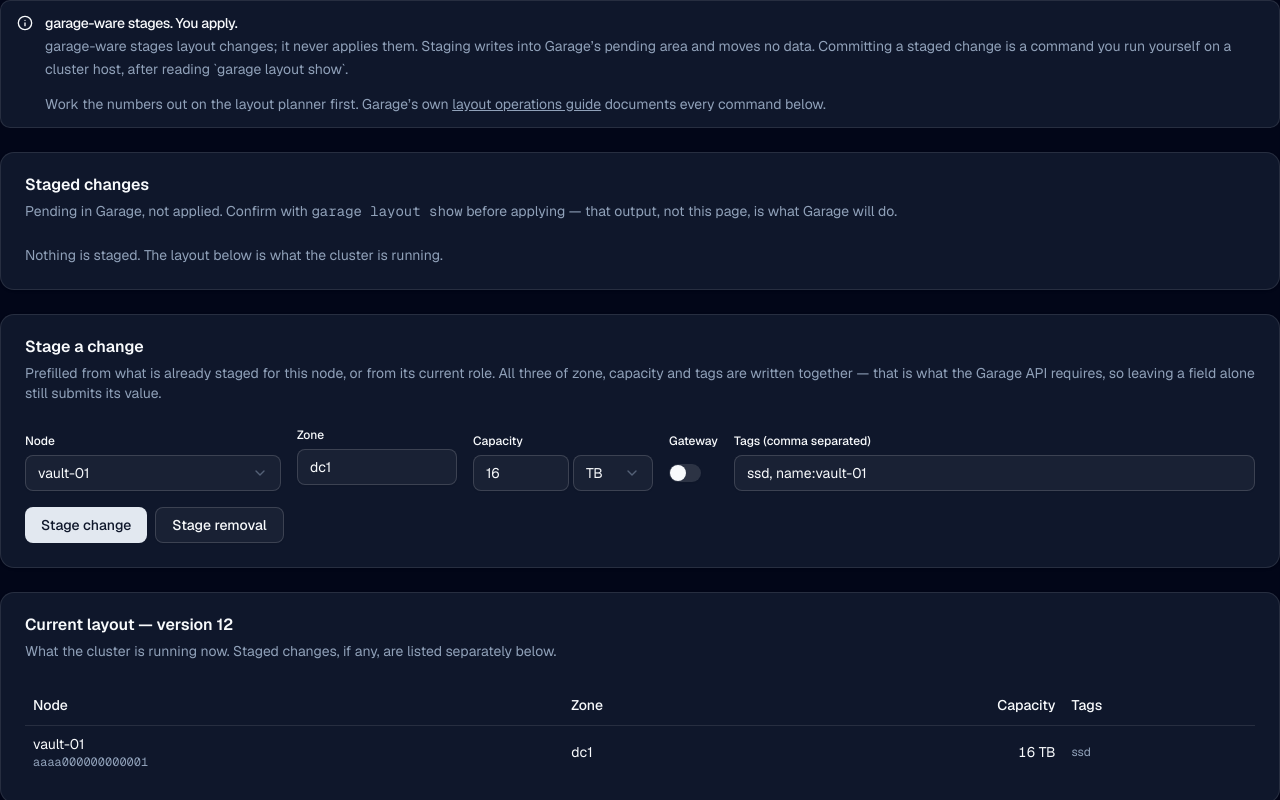
the layout staging page › shows the next-steps command only once something is staged
The width and height of the screenshot is (1280, 800).
Expected: the text "Stage a change" is shown, [25, 336, 144, 357]
Expected: the text "garage layout apply" is not shown
Click the button "Stage change" at x=86, y=525, box [25, 507, 147, 543]
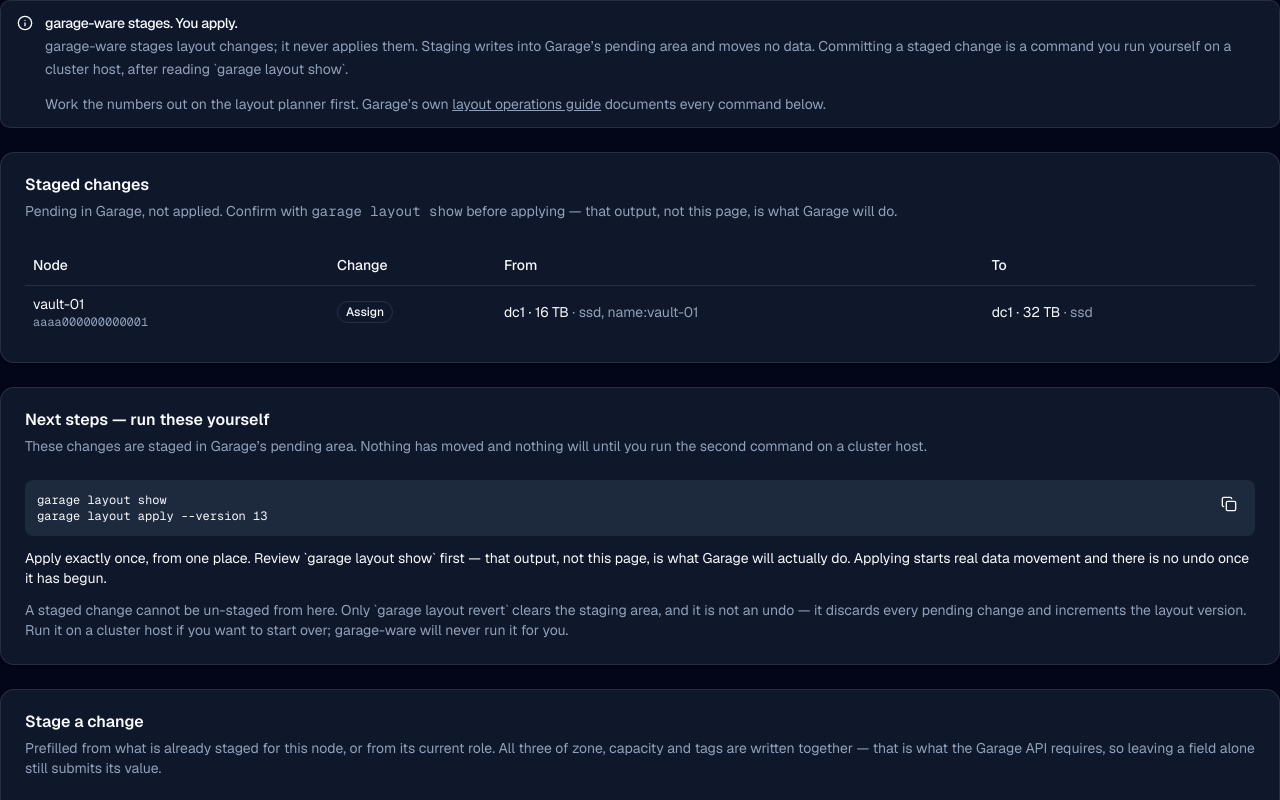
Result: the text "Next steps — run these yourself" is shown at [25, 409, 270, 430]
Result: the text "garage layout apply --version 13" is shown at [37, 492, 267, 524]
